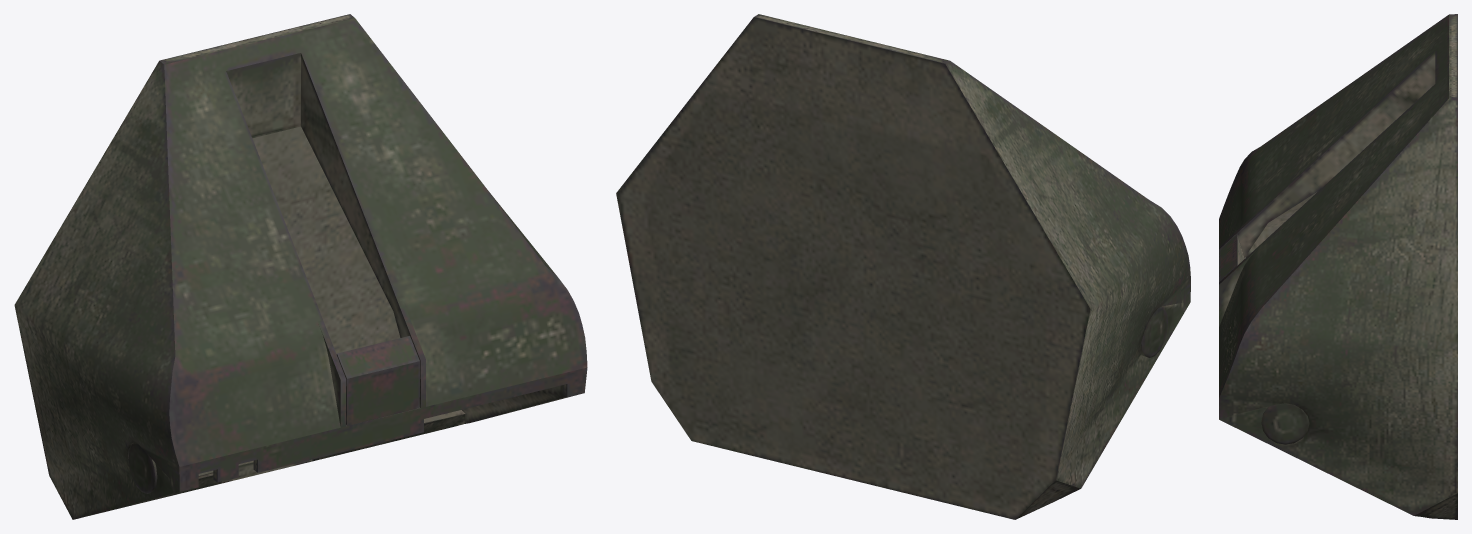
The model's file is Turret_01.glb.
The picture shows the model from 3 angles, left to right: view 1: azimuth 30°, elevation 25°; view 2: azimuth 150°, elevation 25°; view 3: azimuth 270°, elevation 25°; orthographic projection. The views are drawn at different scales.
Visible parts, largest first — view 1: set_0_group_0; view 2: set_0_group_0; view 3: set_0_group_0.
Boxes of the visible parts, x1=… form: set_0_group_0: x1=14, y1=14, x2=587, y2=519; set_0_group_0: x1=616, y1=14, x2=1190, y2=519; set_0_group_0: x1=1219, y1=14, x2=1457, y2=519.
Bounding box in the file's own units: 2.15 × 1.9 × 1.04.
1 material, 1 textured.
